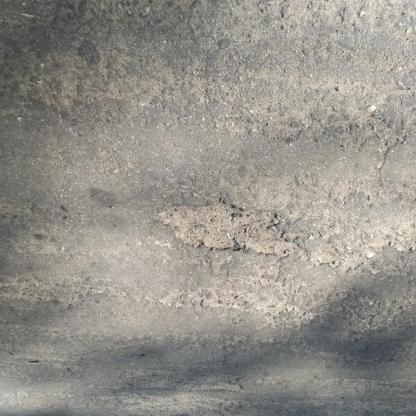pothole: (158, 200, 304, 261)
